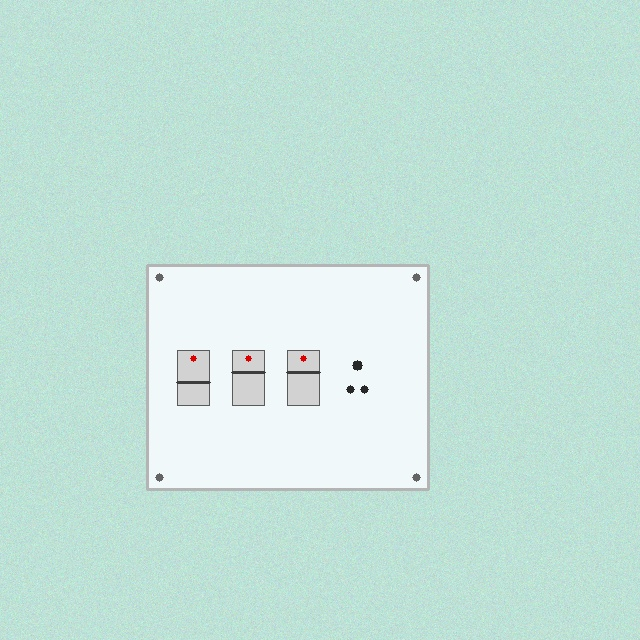switchboard: (147, 265, 428, 489)
